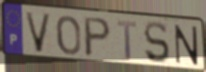N: (174, 23, 200, 67)
O: (55, 14, 82, 57)
P: (83, 16, 113, 58)
S: (143, 20, 172, 65)
T: (116, 19, 138, 61)
V: (23, 11, 53, 55)
